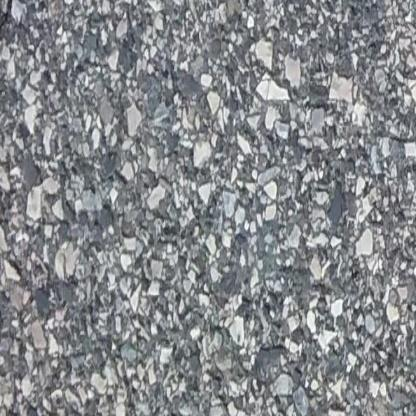Cracks: (0, 0, 22, 113)
